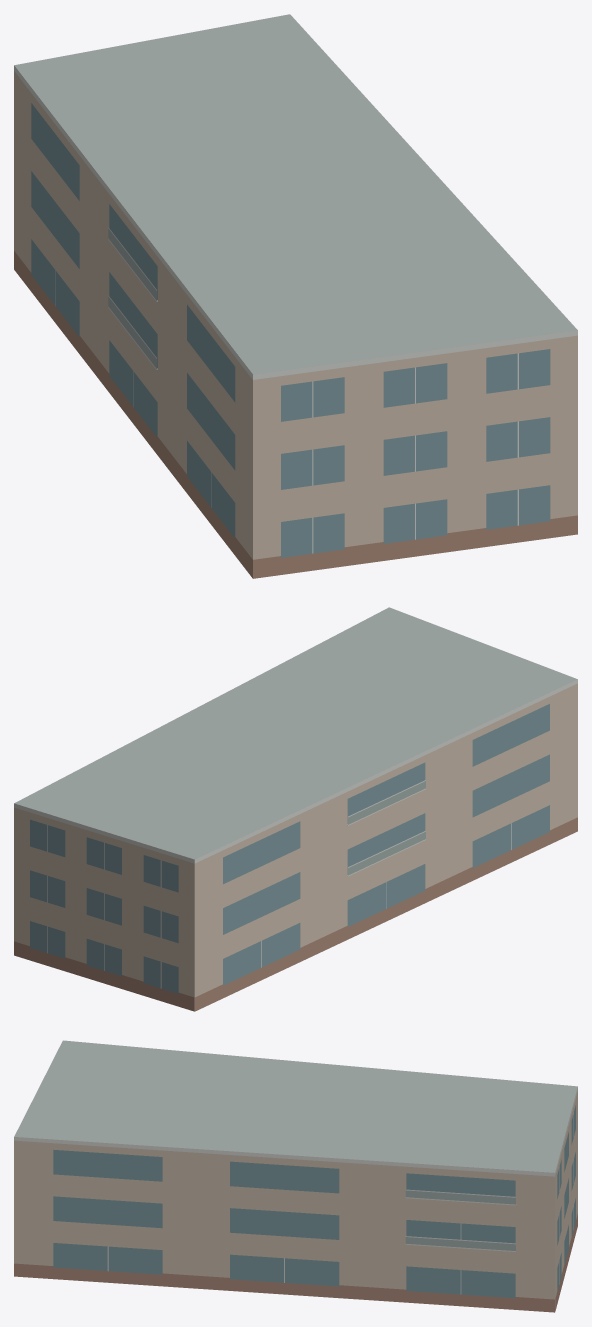
The model's file is survey-upis-33017177.glb.
3 views of the same model, one above another, from view 1: azimuth 30°, elevation 25°; view 2: azimuth 150°, elevation 25°; view 3: azimuth 270°, elevation 25° (orthographic). The views are drawn at different scales.
Visible parts, largest first — view 1: survey-upis-33017177.tmp; view 2: survey-upis-33017177.tmp; view 3: survey-upis-33017177.tmp.
Boxes of the visible parts, x1=… form: survey-upis-33017177.tmp: x1=14, y1=14, x2=577, y2=578; survey-upis-33017177.tmp: x1=14, y1=607, x2=577, y2=1011; survey-upis-33017177.tmp: x1=14, y1=1040, x2=577, y2=1312.
Bounding box in the file's own units: 18.63 × 9.15 × 33.49.
